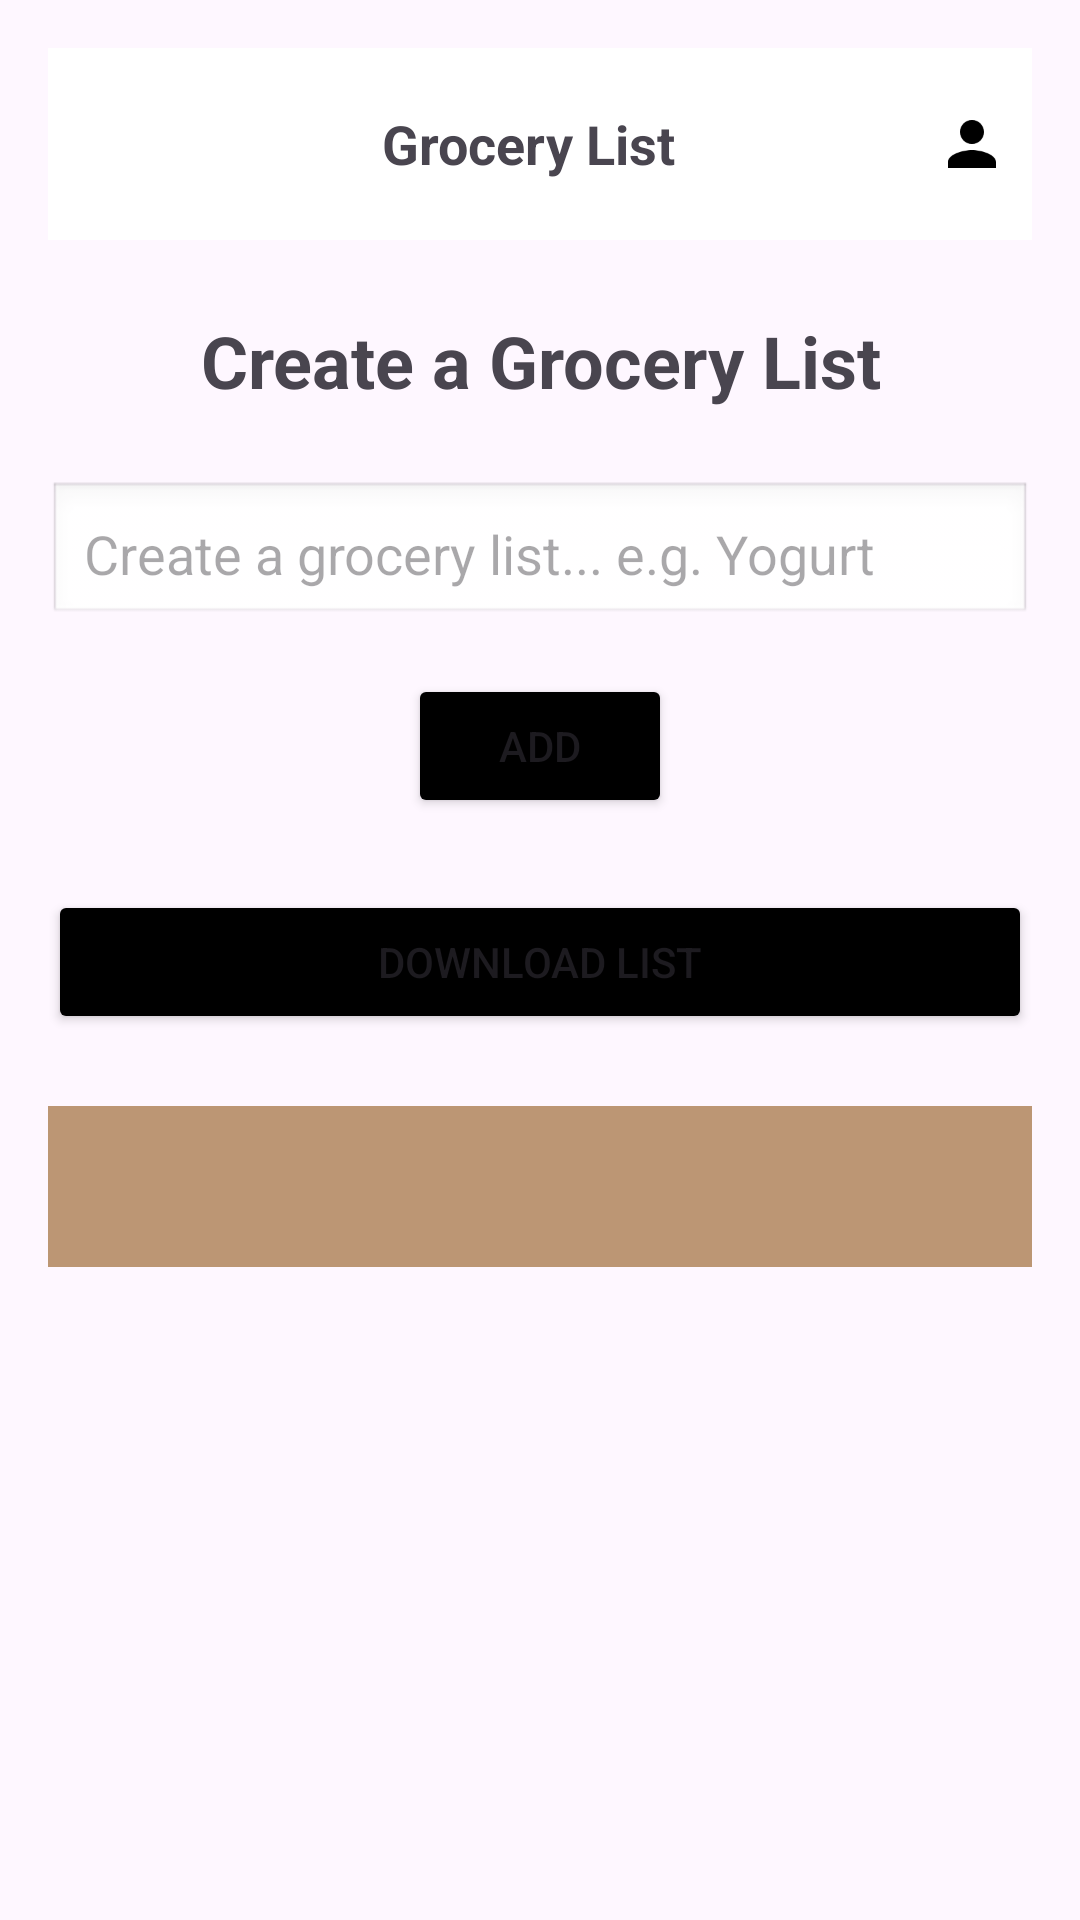

Icons on this 1080*1920 Android screen, each with the point to tap as (x=x, y=y):
Profile: (x=972, y=144)
